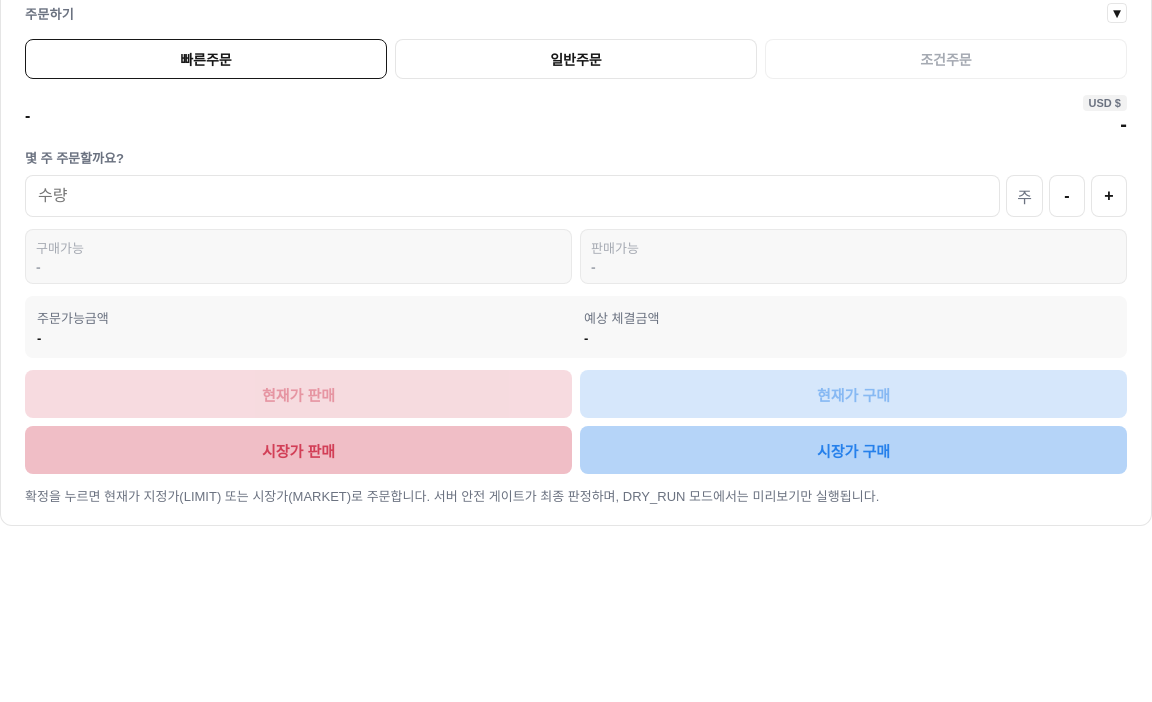
OrderForm — general order › renders the BLOCKED reasons list
Click the tab "일반주문" at x=576, y=59, box [395,39,757,79]
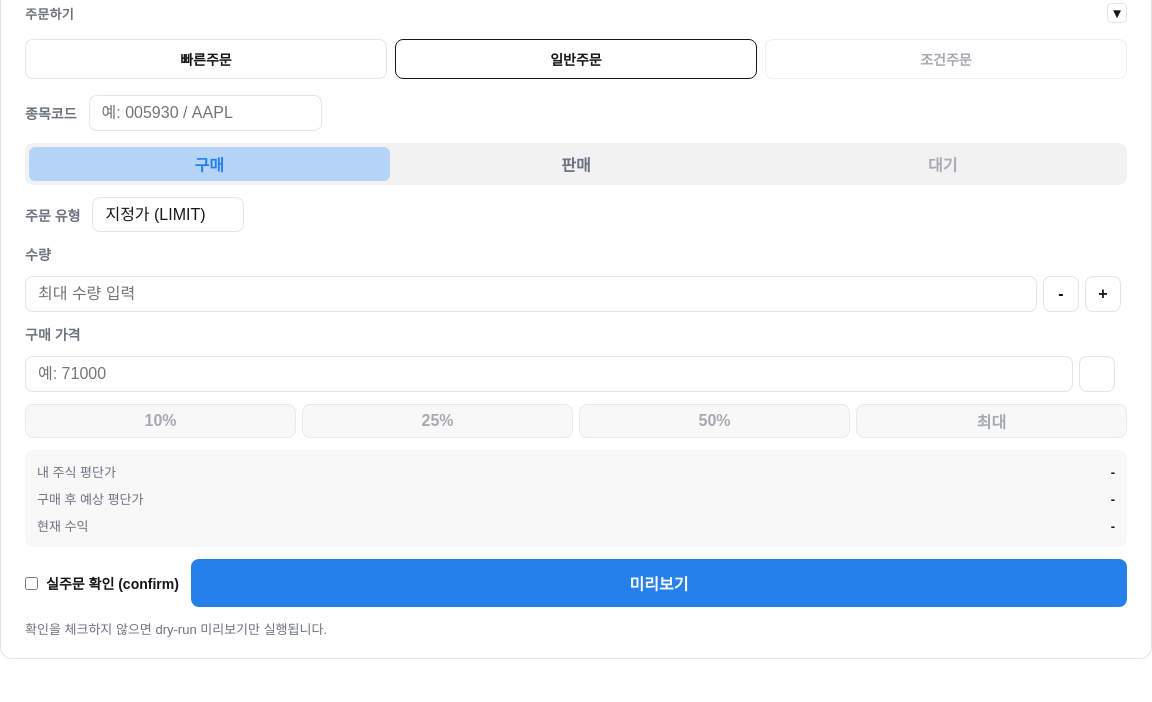
Type "005930" into the field labelled "종목코드" at x=205, y=113, box [88,95,322,131]
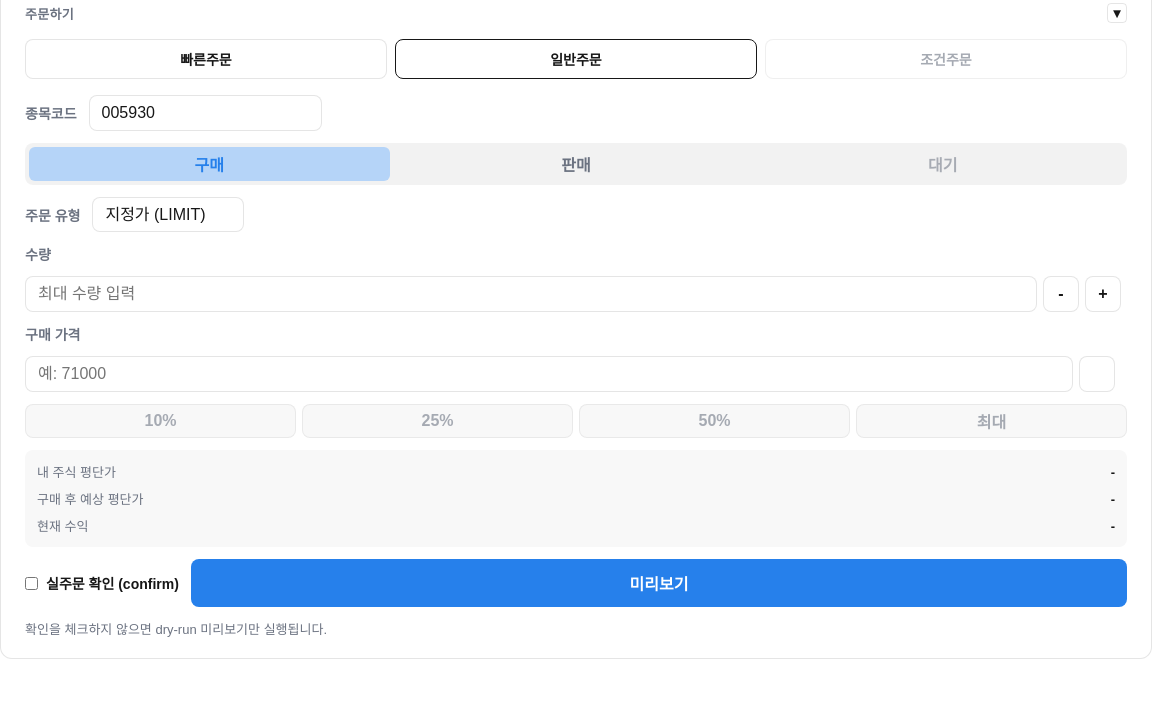
Type "10" into the field labelled "수량" at x=531, y=294, box [25,276,1037,312]
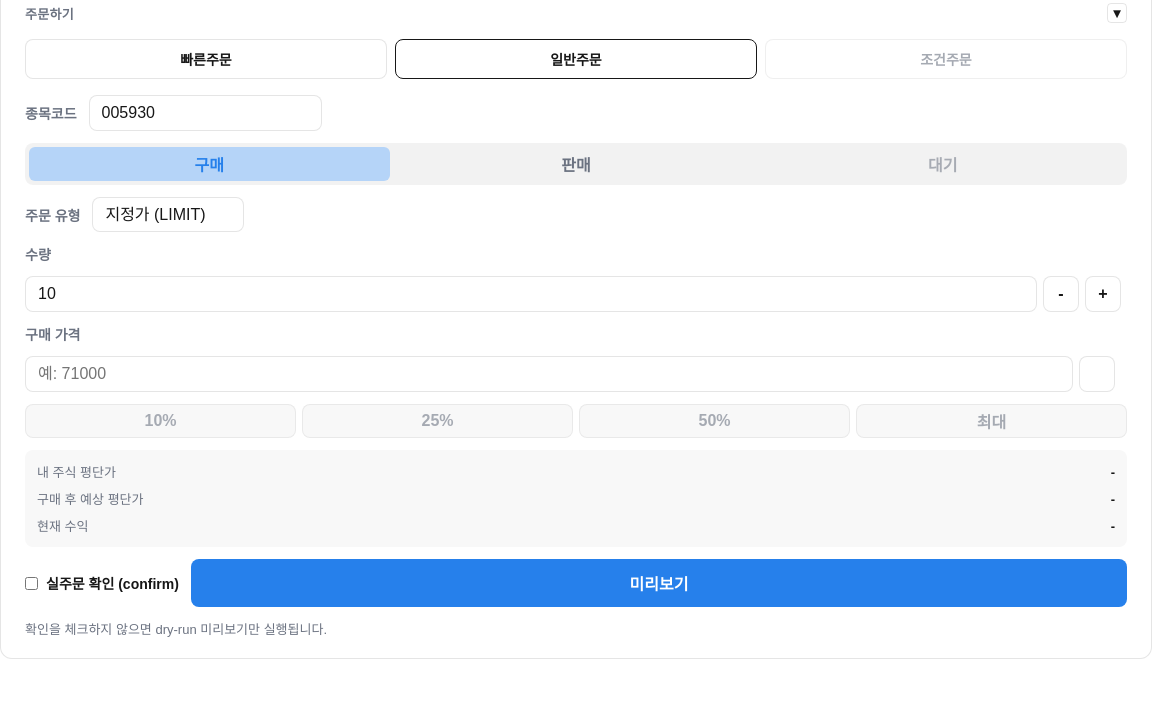
Type "71000" into the field labelled "구매 가격" at x=549, y=374, box [25,356,1073,392]
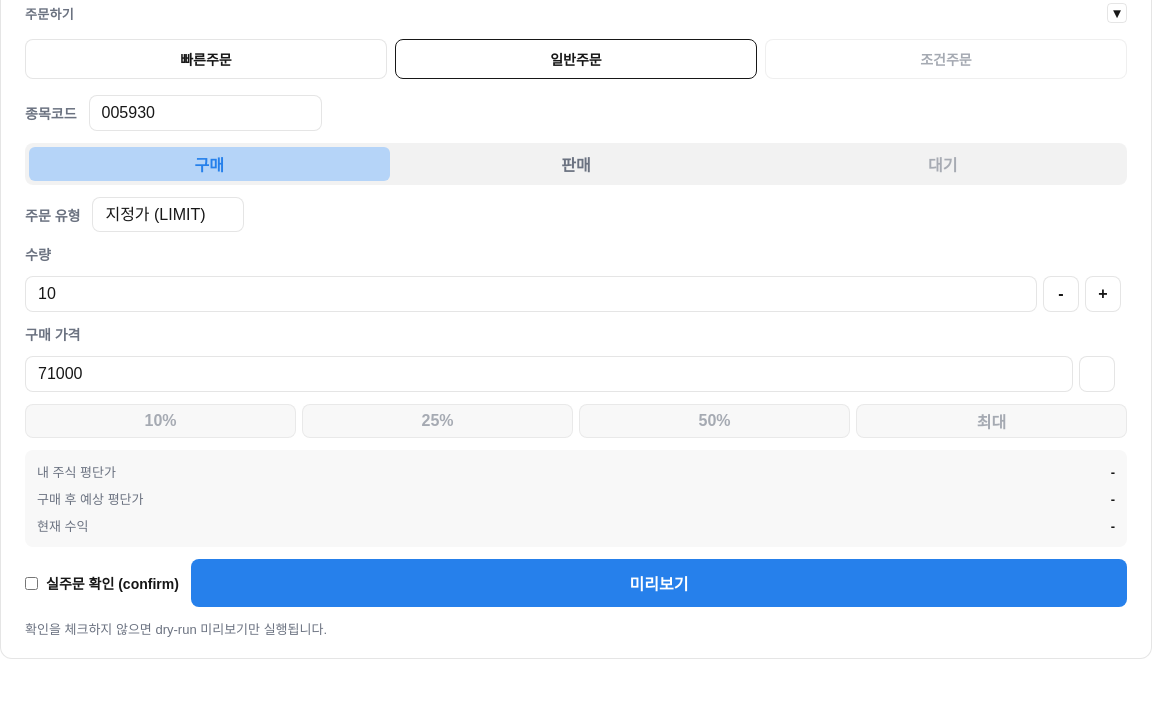
Click the button "미리보기" at x=659, y=583, box [191,559,1127,607]
(page scrolled)
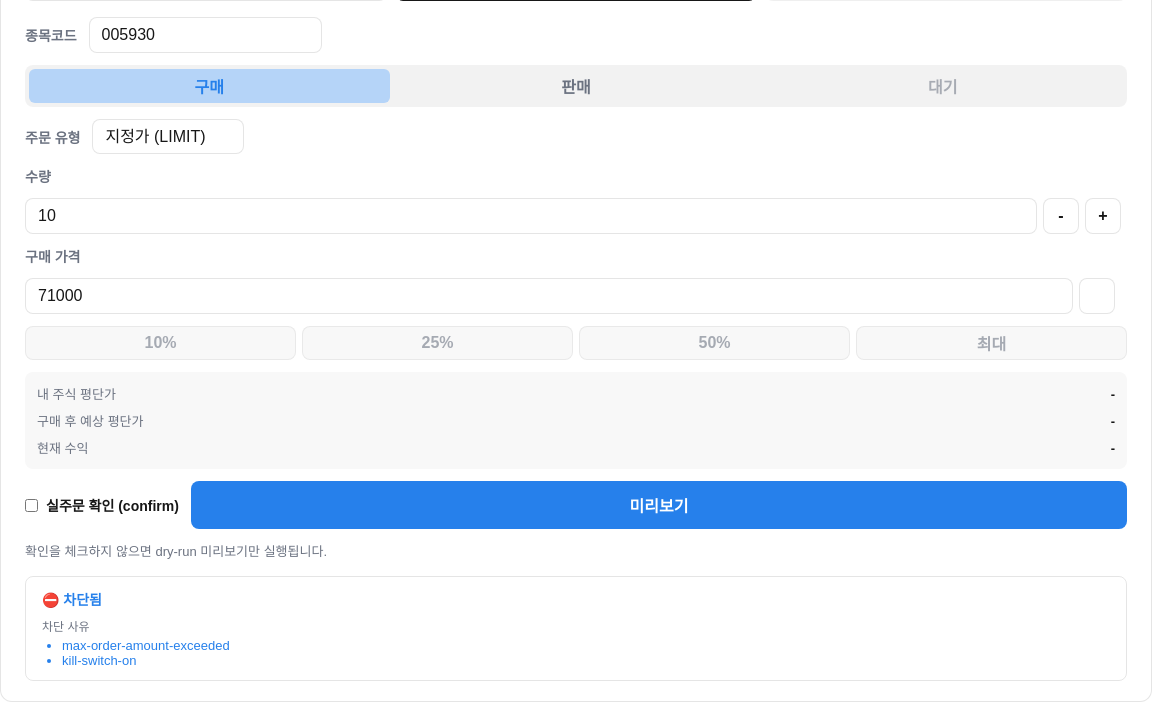
Result: the text "⛔ 차단됨" is shown at [42,592,102,608]
Result: the list item "max-order-amount-exceeded" is shown at [62,638,230,653]
Result: the list item "kill-switch-on" is shown at [62,653,136,668]
